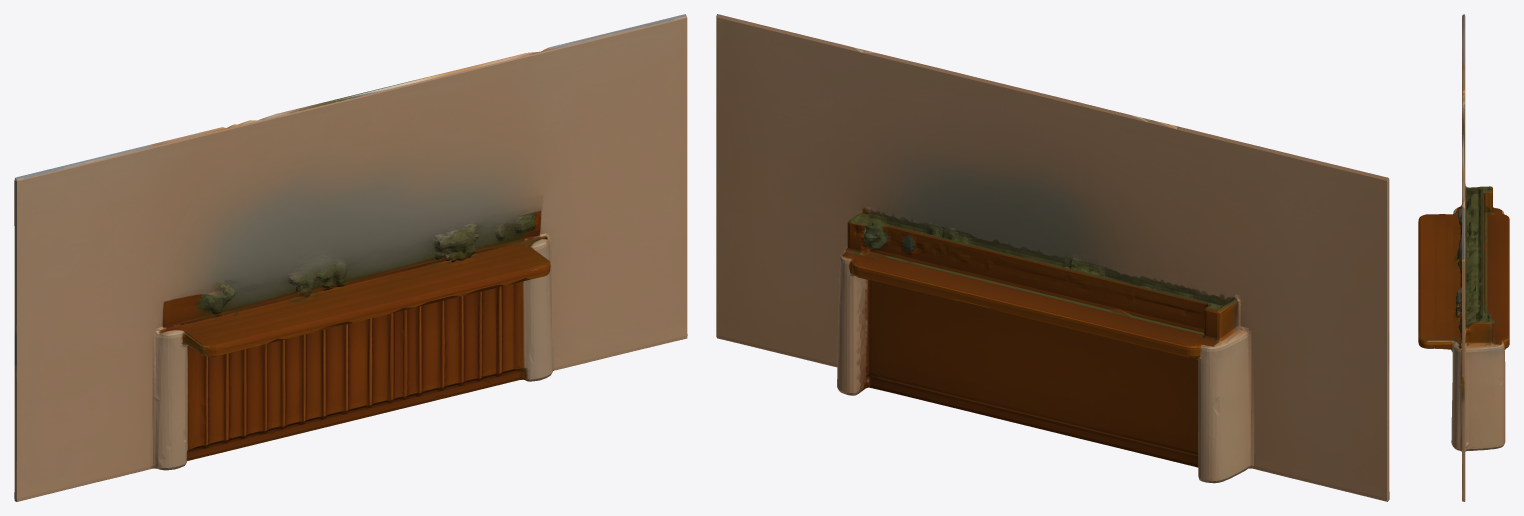
Rendered from room-10-planter-bar.glb.
3 views of the same model, side by side, from view 1: azimuth 30°, elevation 25°; view 2: azimuth 150°, elevation 25°; view 3: azimuth 270°, elevation 25° (orthographic). The views are drawn at different scales.
Visible parts, largest first — view 1: textured_mesh.obj; view 2: textured_mesh.obj; view 3: textured_mesh.obj.
Part boxes in pixels (bbox=[...]): textured_mesh.obj: bbox=[14, 14, 687, 501]; textured_mesh.obj: bbox=[716, 14, 1389, 501]; textured_mesh.obj: bbox=[1418, 14, 1509, 501].
Bounding box in the file's own units: 2.39 × 1.1 × 0.3754.
1 material, 1 textured.
